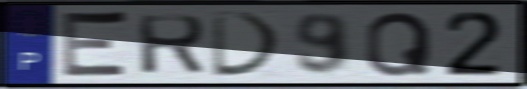2: (442, 9, 505, 79)
9: (293, 11, 352, 78)
D: (209, 10, 286, 79)
E: (59, 8, 131, 81)
Q: (363, 10, 434, 79)
R: (134, 12, 208, 77)
